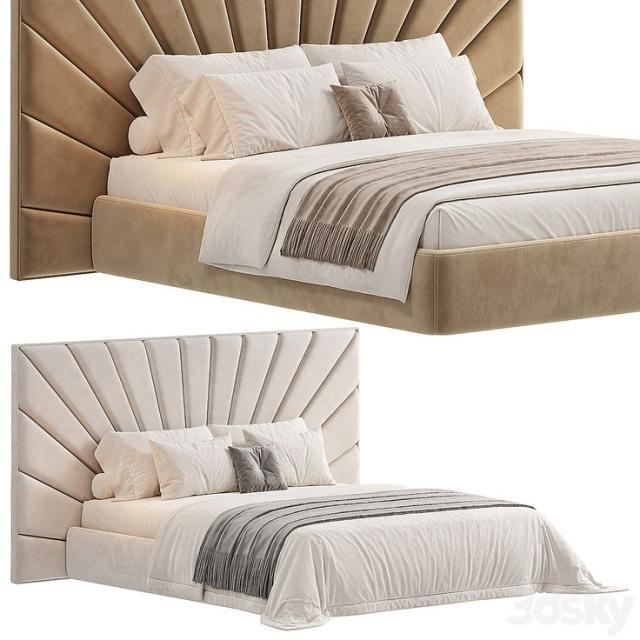obstacle: (11, 0, 640, 336), (9, 326, 628, 630)
